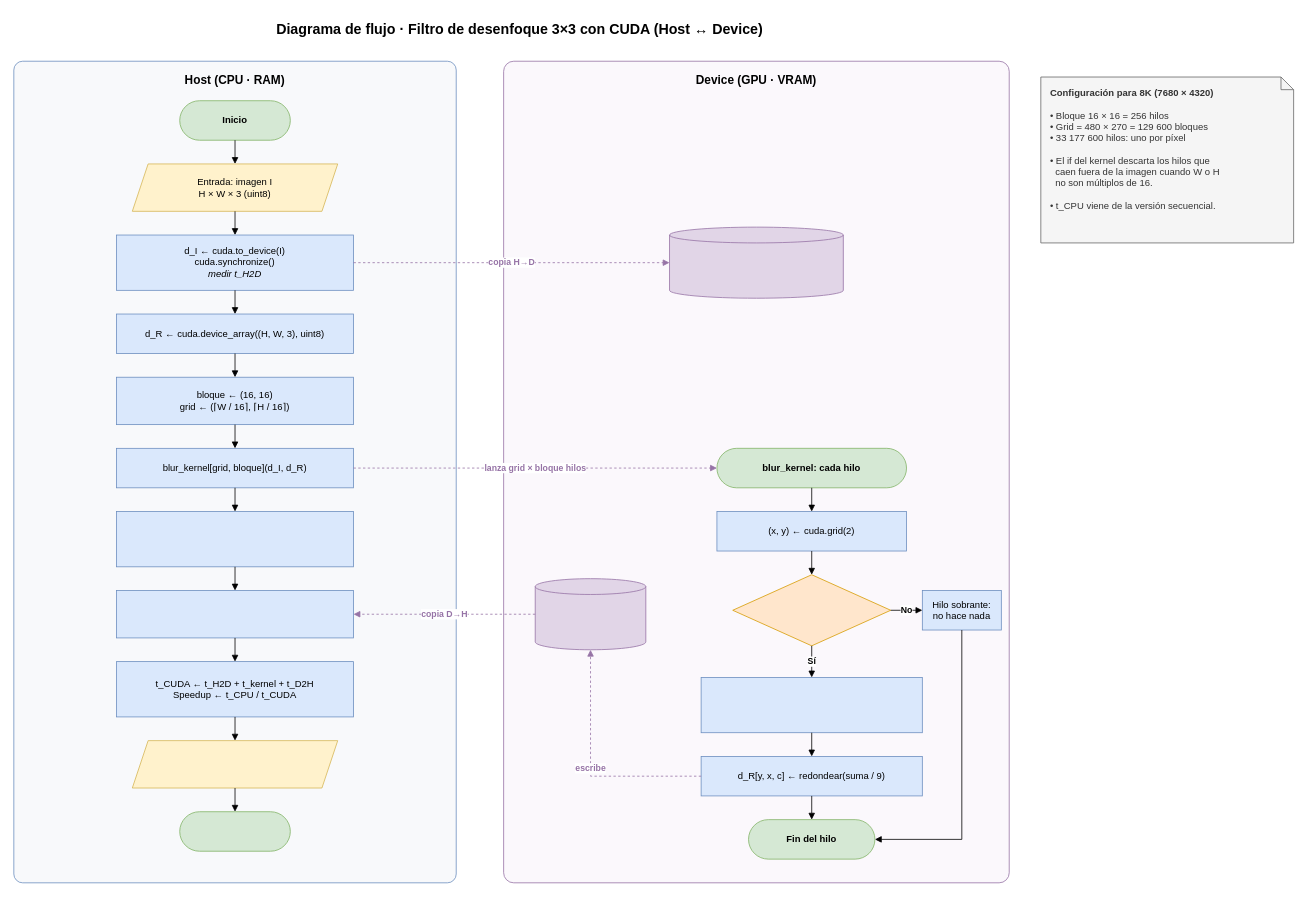
The diagram is 1307 pixels wide and 897 high, and some of its shapes have lost their labels. The box of each missing label's shape, as (x1, y1, x2, y2) in pixels:
cuda.synchronize() (espera a que terminen todos los hilos) medir t_kernel: (116, 511, 354, 567)
Fin: (179, 811, 290, 851)
Para c = 0, 1, 2: suma de la ventana 3×3 de d_I (índices con clamp): (700, 677, 922, 733)
R ← d_R.copy_to_host() medir t_D2H: (116, 590, 354, 638)
Salida: imagen R y tiempos: (132, 740, 338, 788)
VRAM: d_I (copia de la entrada): (669, 226, 843, 298)
VRAM: d_R (resultado): (534, 578, 646, 650)
¿x < W y y < H?: (732, 574, 891, 646)
